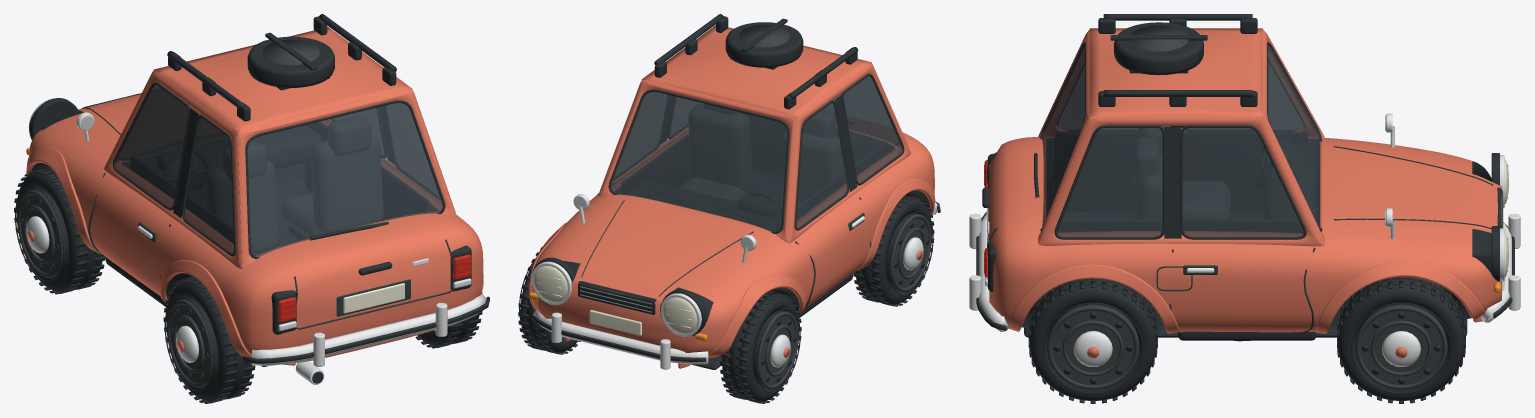
Rendered from puddle.fbx.
3 views of the same model, side by side, from view 1: azimuth 30°, elevation 25°; view 2: azimuth 150°, elevation 25°; view 3: azimuth 270°, elevation 25° (orthographic). The views are drawn at different scales.
Visible parts, largest first — view 1: Body, Wheel_RL_Mesh, Wheel_FL_Mesh, Wheel_RR_Mesh; view 2: Body, Wheel_FL_Mesh, Wheel_RL_Mesh, Wheel_FR_Mesh; view 3: Body, Wheel_FR_Mesh, Wheel_RR_Mesh.
Boxes of the visible parts, x1,y1,x2,y2 form: Body: (26,14,489,384); Wheel_RL_Mesh: (163,278,255,403); Wheel_FL_Mesh: (14,167,105,294); Wheel_RR_Mesh: (415,292,482,348); Body: (529,14,940,369); Wheel_FL_Mesh: (720,291,801,403); Wheel_RL_Mesh: (853,195,934,306); Wheel_FR_Mesh: (518,246,580,354); Body: (969,14,1520,341); Wheel_FR_Mesh: (1337,277,1465,403); Wheel_RR_Mesh: (1028,278,1157,403).
Size of the model in its own units: 197 by 193 by 318.
